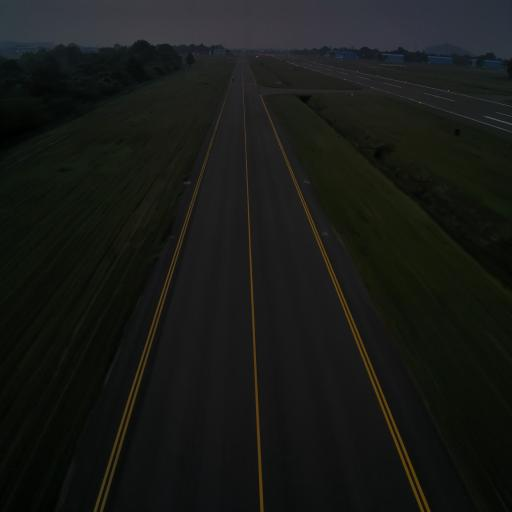on: (187, 178, 190, 183), (304, 178, 306, 182)
